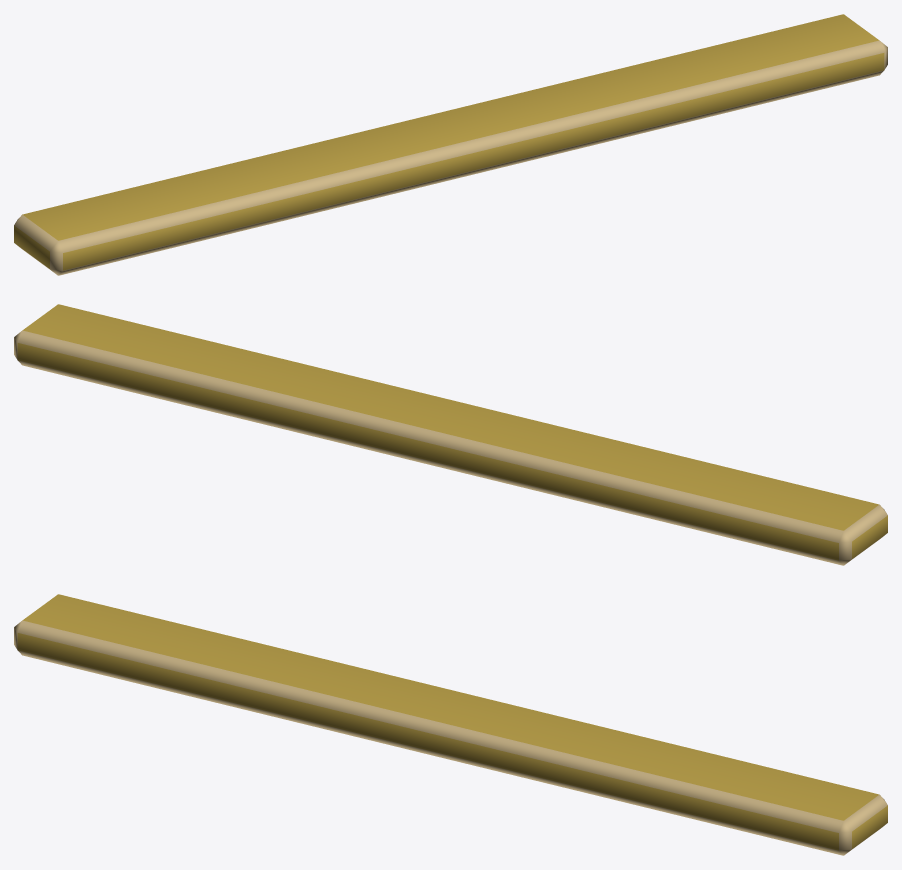
Rendered from RailingC.glb.
3 views of the same model, one above another, from view 1: azimuth 30°, elevation 25°; view 2: azimuth 150°, elevation 25°; view 3: azimuth 330°, elevation 25° (orthographic).
Visible parts, largest first — view 1: RailingC; view 2: RailingC; view 3: RailingC.
Part boxes in pixels (x1,y1,x2,y2): RailingC: (14,14,887,275); RailingC: (14,304,887,565); RailingC: (14,594,887,855).
Size of the model in its own units: 1.88 by 0.0752 by 0.1776.
